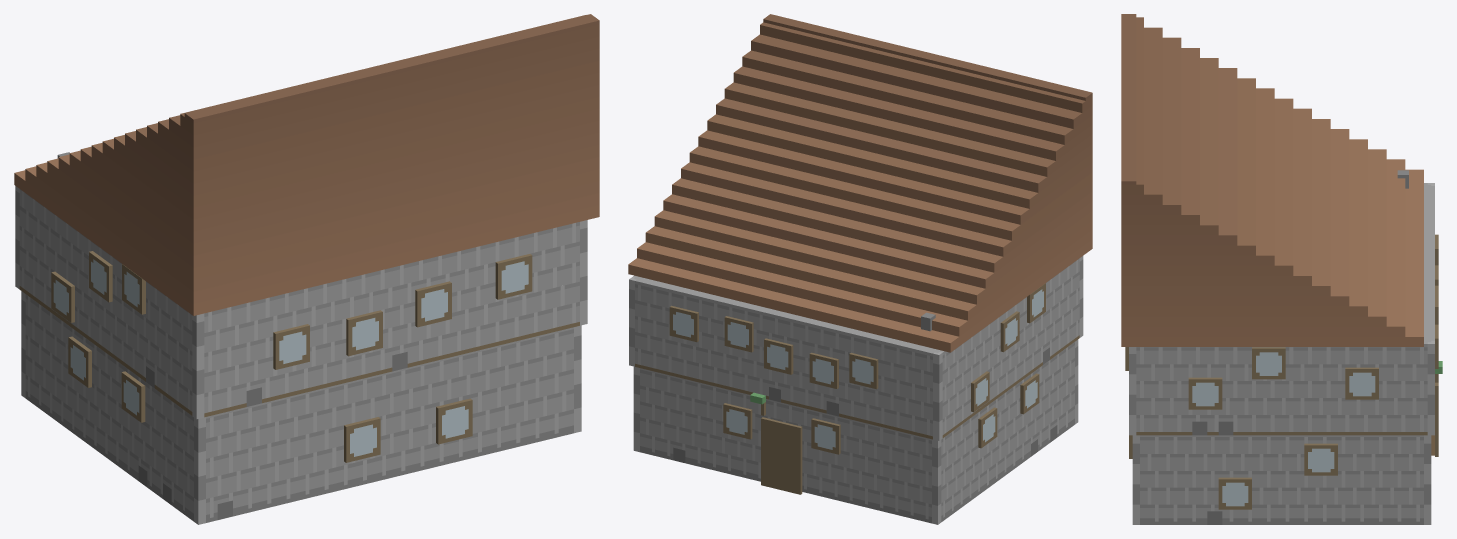
The model's file is taberna_01.glb.
The picture shows the model from 3 angles, left to right: view 1: azimuth 30°, elevation 25°; view 2: azimuth 150°, elevation 25°; view 3: azimuth 270°, elevation 25°; orthographic projection. The views are drawn at different scales.
Visible parts, largest first — view 1: taberna_01; view 2: taberna_01; view 3: taberna_01.
Part boxes in pixels (box(x1,y1,x2,y2)): taberna_01: box(14, 14, 599, 524); taberna_01: box(628, 14, 1092, 524); taberna_01: box(1121, 14, 1442, 524).
Size of the model in its own units: 10.6 by 10.3 by 8.6.
